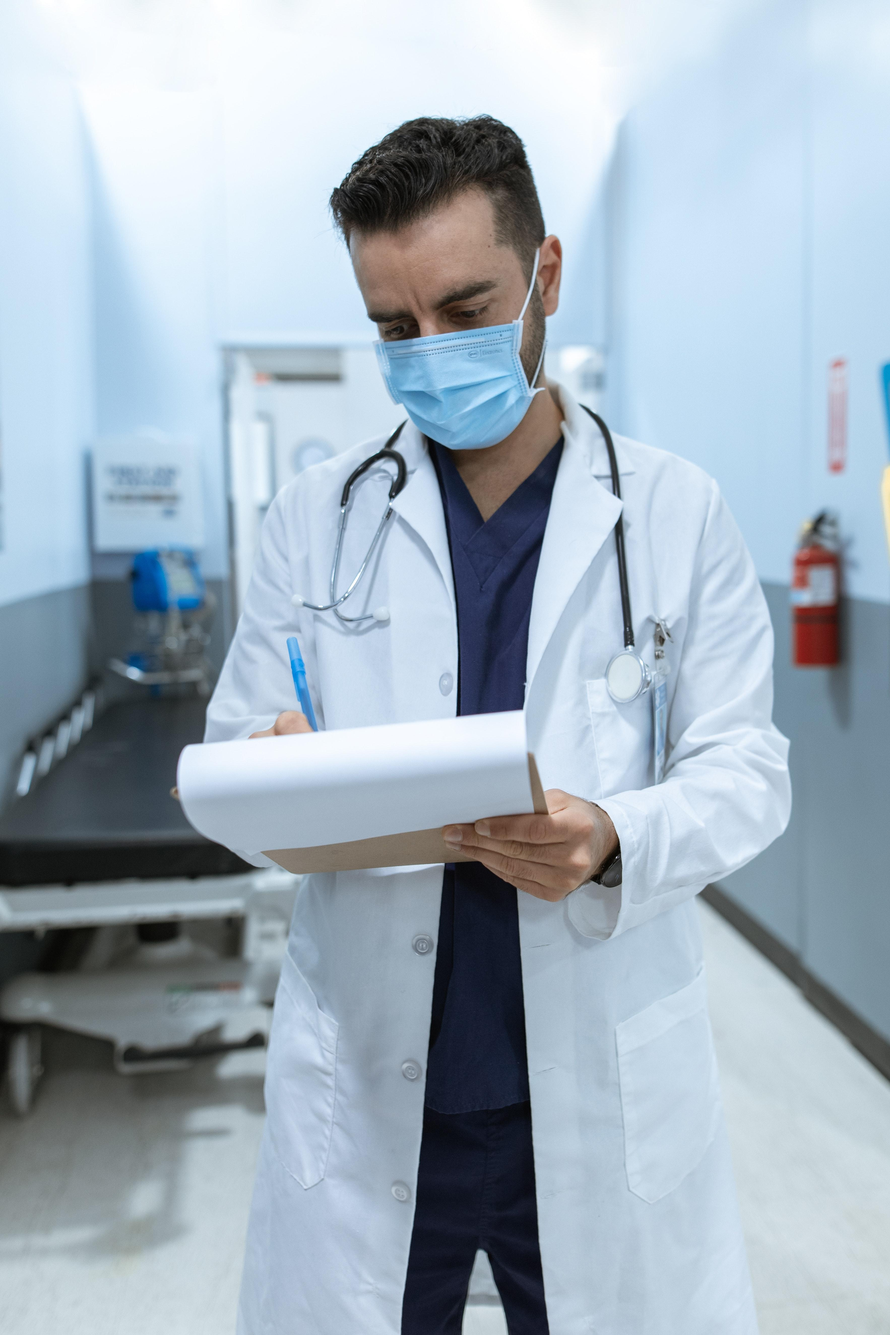Lab_coat: (181, 416, 821, 1335)
